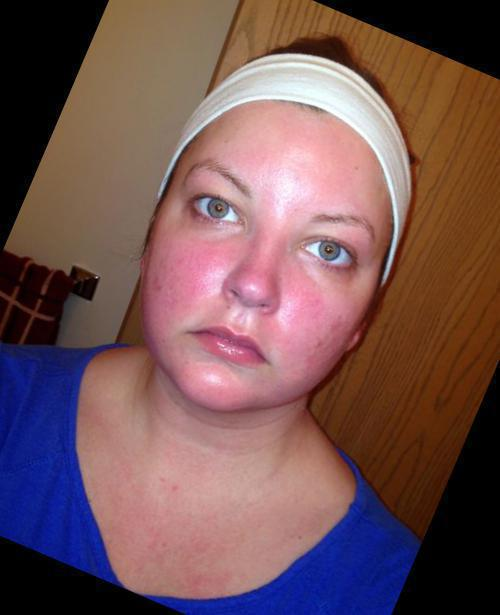Drunk: (177, 122, 376, 391)
